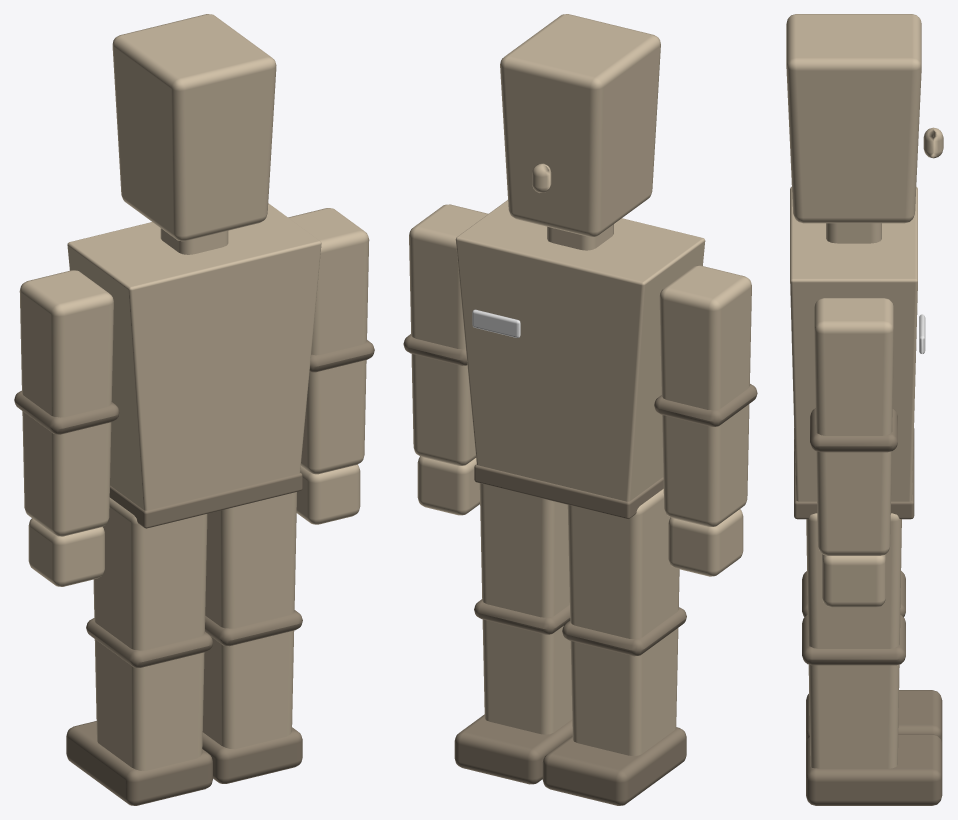
Rendered from dummy.glb.
The picture shows the model from 3 angles, left to right: view 1: azimuth 30°, elevation 25°; view 2: azimuth 150°, elevation 25°; view 3: azimuth 270°, elevation 25°; orthographic projection. The views are drawn at different scales.
Visible parts, largest first — view 1: Torso, LegL, Head, ArmL, LegR, ArmR, NeckMesh; view 2: Torso, LegL, Head, ArmL, LegR, ArmR, NeckMesh; view 3: Head, LegR, ArmR, Torso, LegL, NeckMesh.
Boxes of the visible parts, bbox=[...] form: Torso: bbox=[67, 203, 321, 528]; LegL: bbox=[66, 497, 213, 805]; Head: bbox=[112, 14, 276, 241]; ArmL: bbox=[14, 270, 119, 586]; LegR: bbox=[202, 492, 302, 783]; ArmR: bbox=[288, 208, 374, 524]; NeckMesh: bbox=[160, 228, 228, 254]; Torso: bbox=[455, 200, 705, 519]; LegL: bbox=[542, 489, 686, 805]; Head: bbox=[500, 14, 660, 237]; ArmL: bbox=[654, 265, 757, 576]; LegR: bbox=[454, 483, 572, 784]; ArmR: bbox=[403, 204, 488, 515]; NeckMesh: bbox=[547, 224, 613, 250]; Head: bbox=[786, 14, 943, 223]; LegR: bbox=[802, 513, 942, 805]; ArmR: bbox=[810, 298, 897, 607]; Torso: bbox=[790, 186, 925, 519]; LegL: bbox=[802, 571, 942, 743]; NeckMesh: bbox=[826, 223, 881, 243].
Bounding box in the file's own units: 0.94 × 2.01 × 0.3926.
